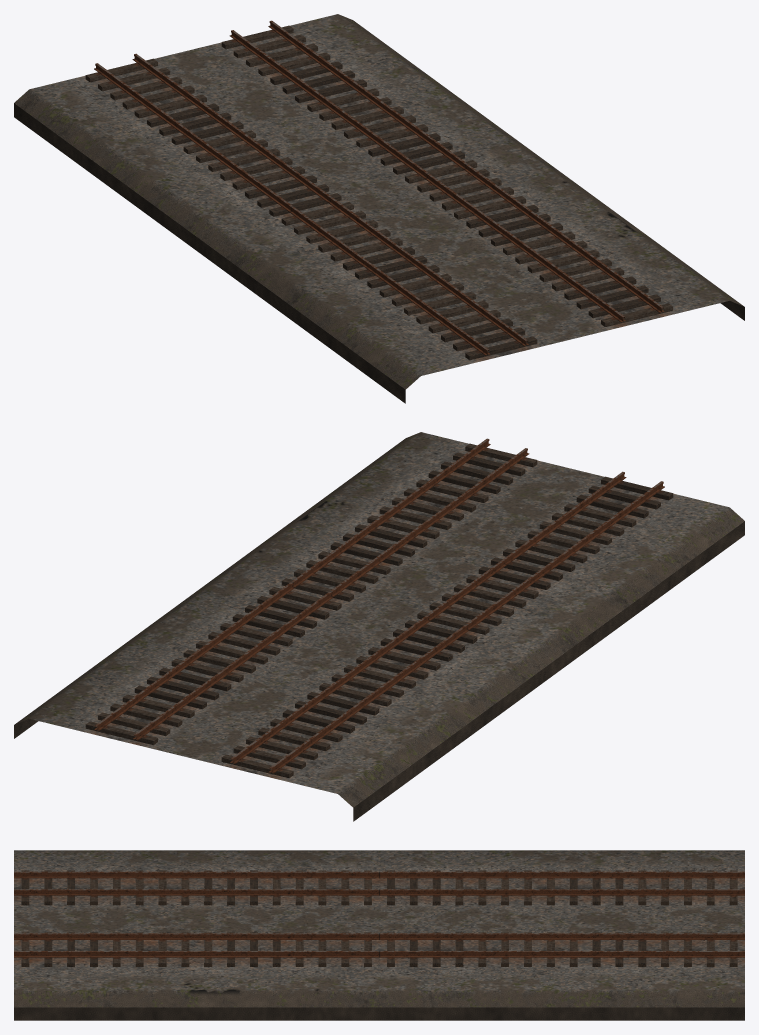
The model's file is Rail_Straight.fbx.
3 renders of one model, top to bottom at view 1: azimuth 30°, elevation 25°; view 2: azimuth 150°, elevation 25°; view 3: azimuth 270°, elevation 25°, orthographic. The views are drawn at different scales.
Parts seen in each view (by area): view 1: Rail_Straight; view 2: Rail_Straight; view 3: Rail_Straight.
Part boxes in pixels (bbox=[...]): Rail_Straight: bbox=[14, 14, 744, 403]; Rail_Straight: bbox=[14, 432, 744, 821]; Rail_Straight: bbox=[14, 850, 744, 1020].
Size of the model in its own units: 1000 by 95 by 2000.
1 material, 1 textured.
